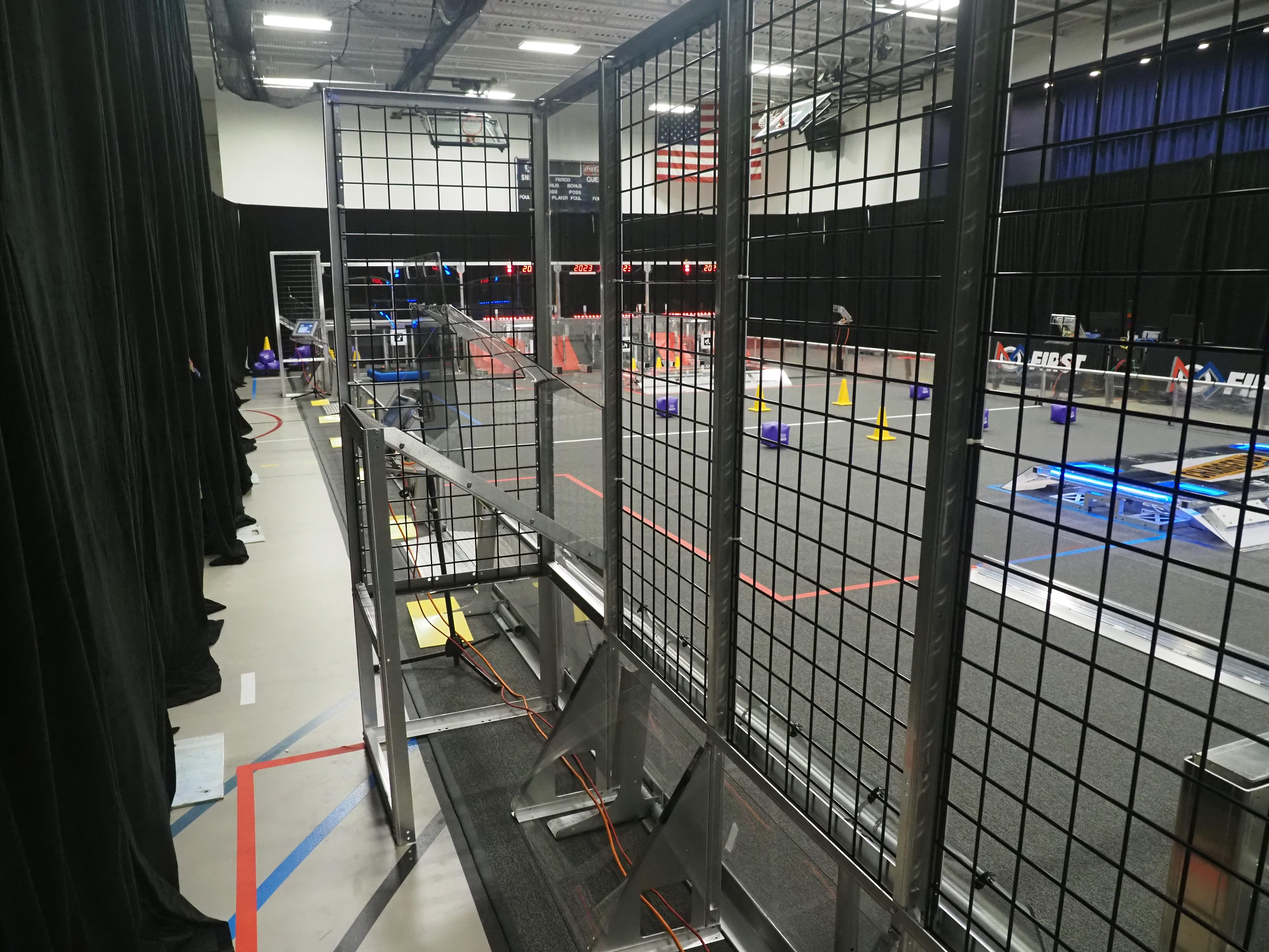cone: (867, 403, 895, 442), (830, 375, 856, 410), (756, 381, 772, 409), (624, 351, 643, 373), (647, 353, 667, 373), (258, 329, 273, 348), (350, 345, 361, 369), (324, 343, 334, 366), (673, 356, 688, 371)
cube: (758, 419, 794, 457), (1049, 400, 1084, 427), (656, 395, 683, 421), (907, 380, 930, 403), (257, 349, 278, 366), (980, 408, 991, 436), (268, 365, 284, 383), (293, 343, 308, 360), (252, 362, 264, 380)
robot: (368, 366, 437, 387)
